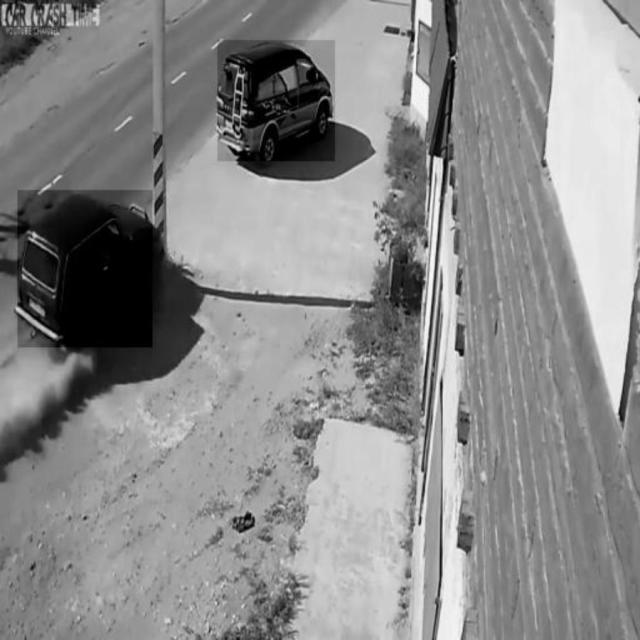vehicle: (18, 191, 152, 348), (217, 41, 335, 162)
